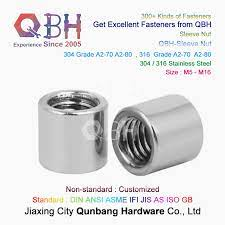Thread: (108, 104, 160, 172), (35, 88, 108, 129)
